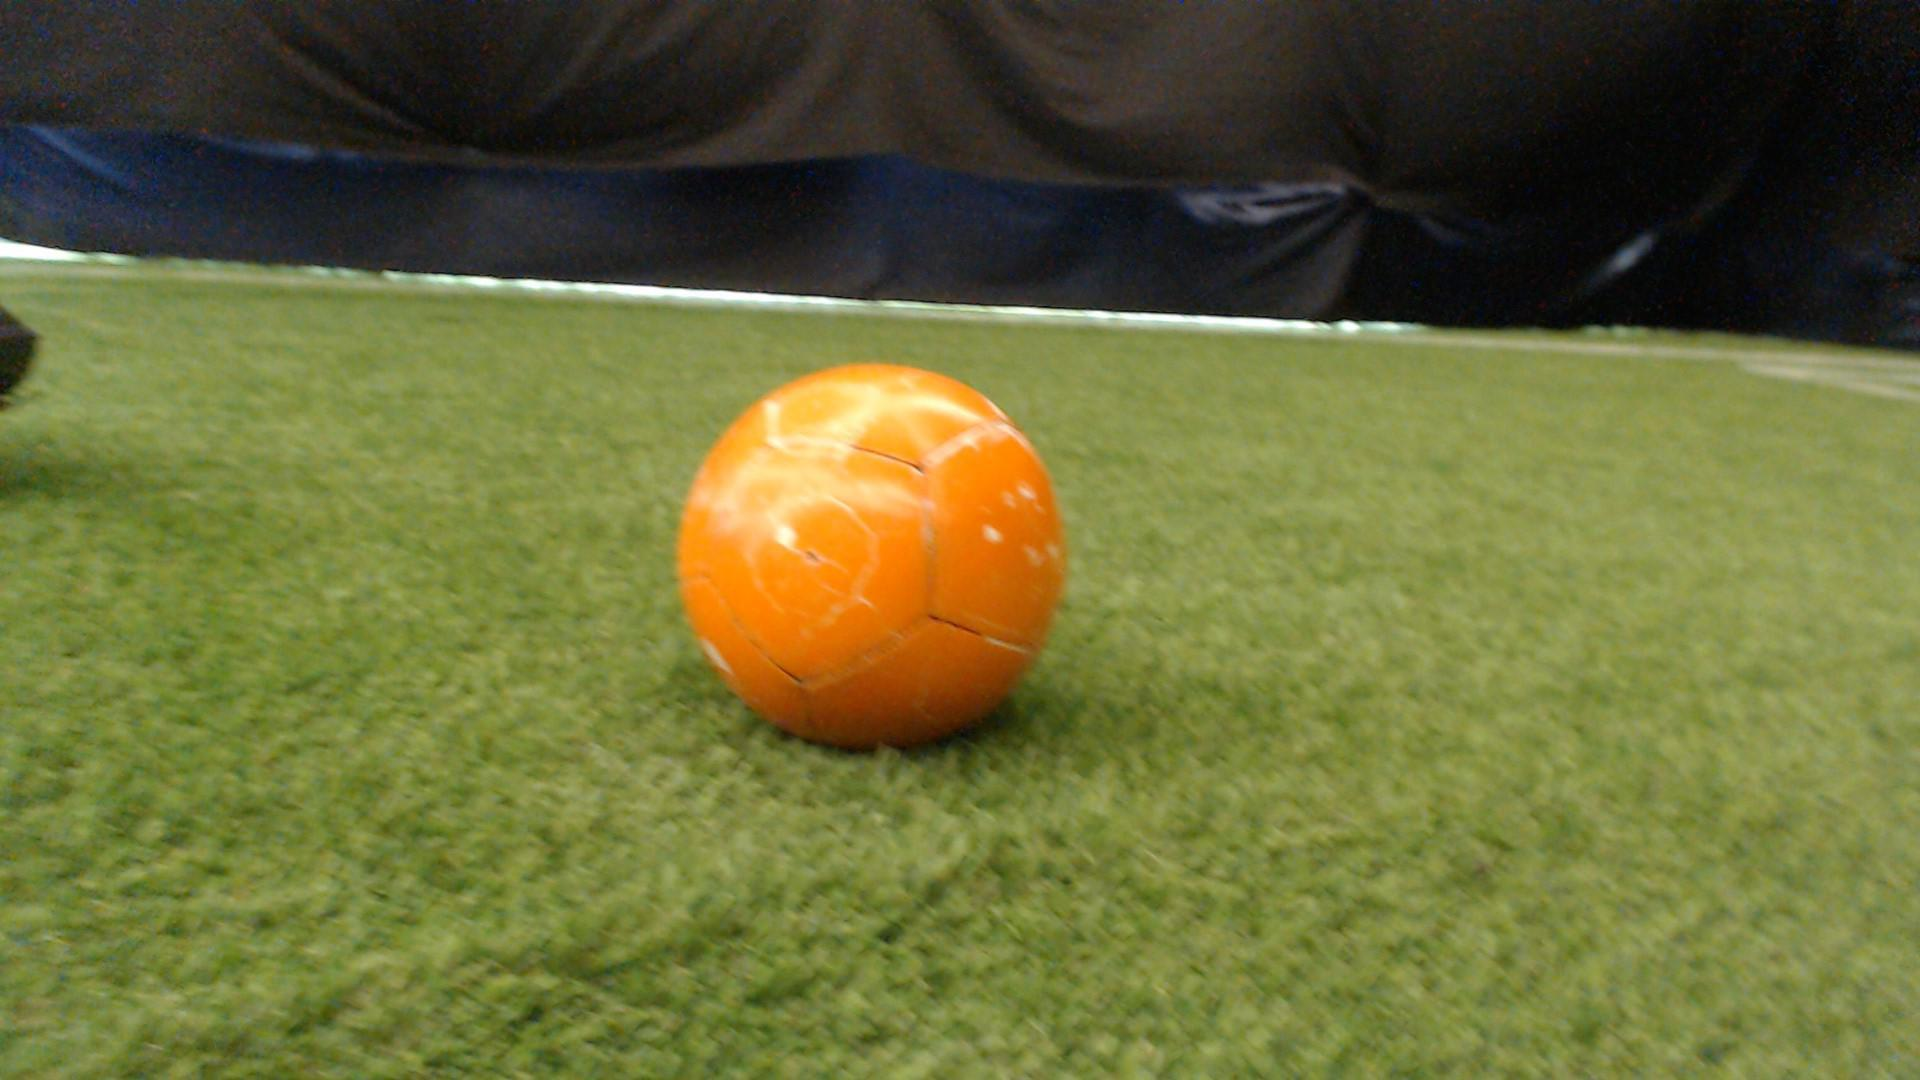bola: (647, 322, 1167, 775)
